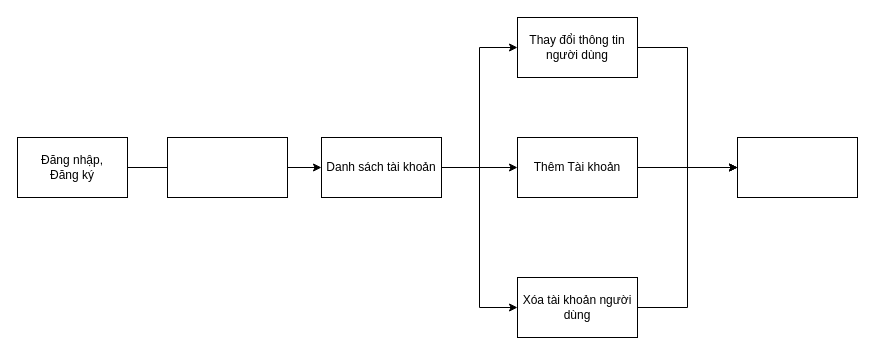
Image size: 875x355. Some labels were removed from this diagram. The shapes that lost their labels are listed below. From the top down, each one's centre as x and y in pixels, then its label:
the point at 227,167: Xác thực tài khoản (Authentication)
the point at 797,167: Xác nhận và lưu danh sách
